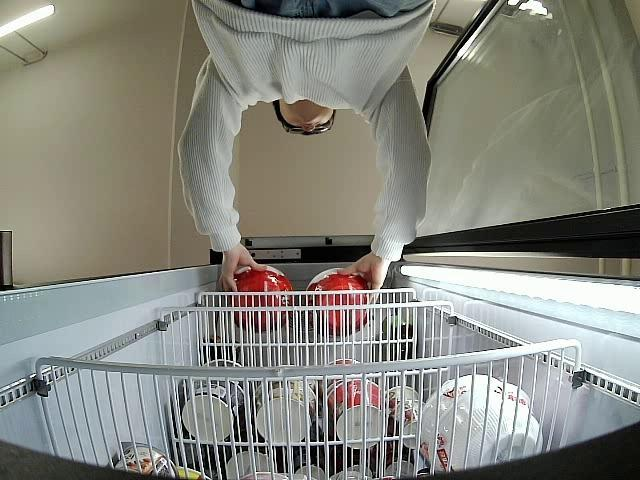10_wangTtukkeong: (305, 268, 371, 336), (230, 266, 294, 332)
